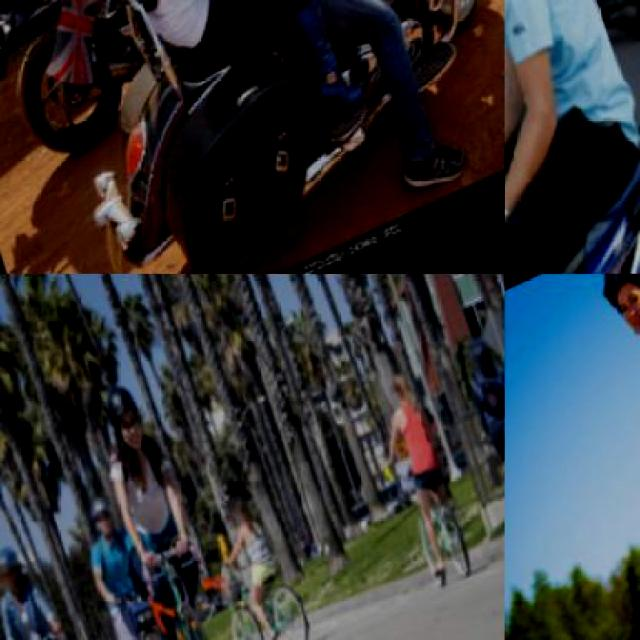With Helmet: (95, 380, 163, 468), (583, 274, 639, 357), (85, 489, 132, 551), (0, 543, 40, 600), (465, 336, 503, 392)
Without Helmet: (384, 368, 424, 418), (230, 497, 267, 540)
